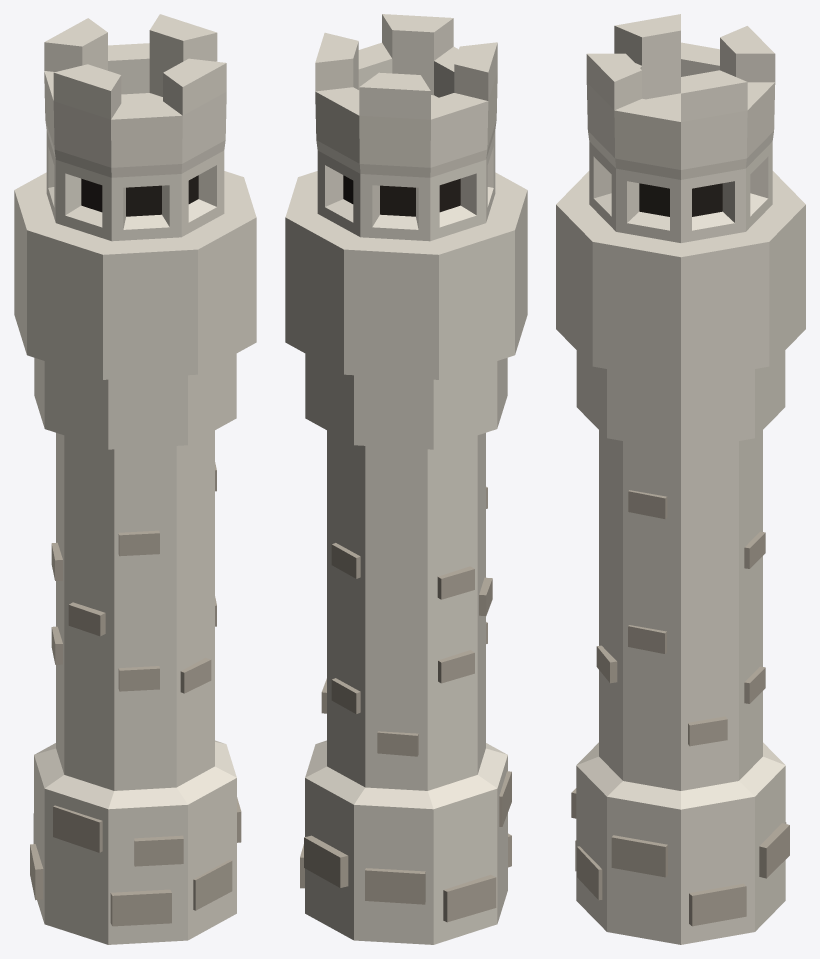
File: tower.glb
The picture shows the model from 3 angles, left to right: view 1: azimuth 30°, elevation 25°; view 2: azimuth 150°, elevation 25°; view 3: azimuth 270°, elevation 25°; orthographic projection.
Visible parts, largest first — view 1: Tower; view 2: Tower; view 3: Tower.
Part boxes in pixels (<box>): Tower: <box>14,14,256,944</box>; Tower: <box>285,14,527,944</box>; Tower: <box>556,14,805,944</box>.
Bounding box in the file's own units: 1.13 × 4.21 × 1.13.
